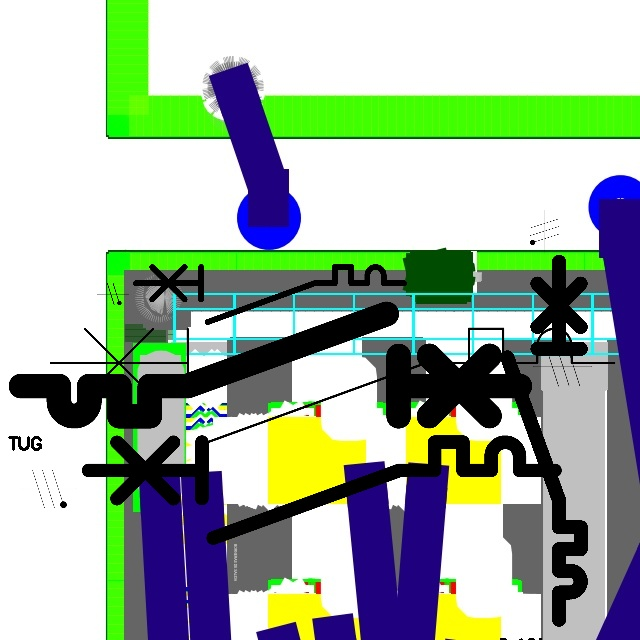interruptor_termomagnetico: (36, 314, 629, 459), (8, 301, 532, 429), (76, 430, 566, 550), (498, 252, 590, 629), (128, 260, 410, 329)
